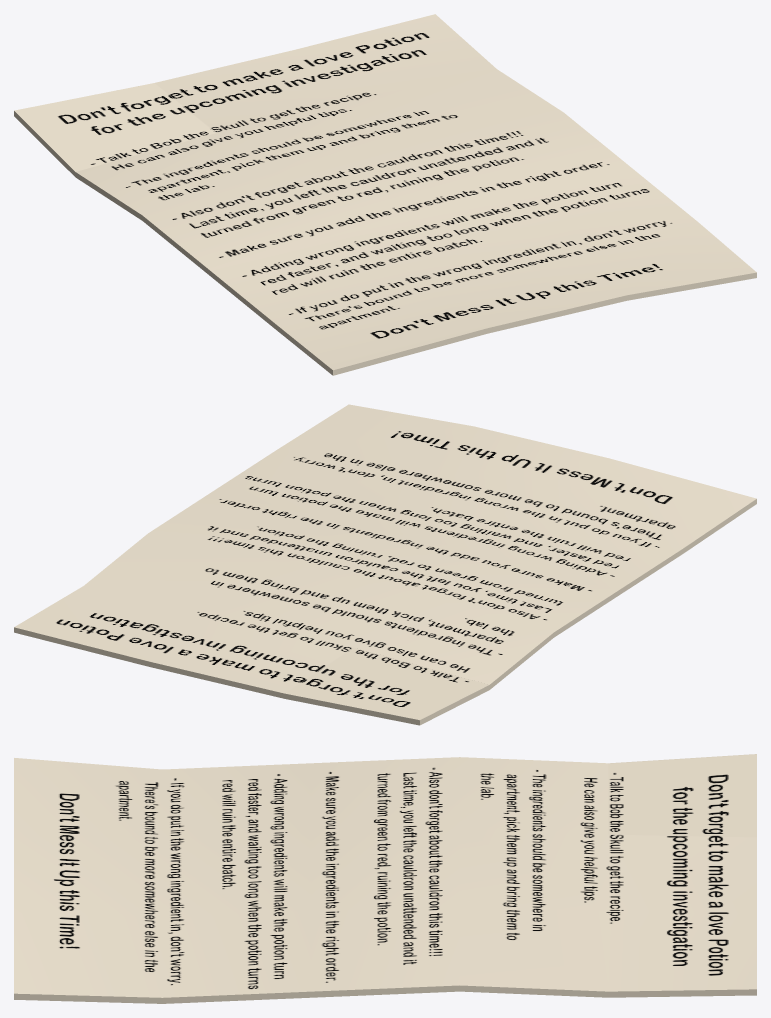
Rendered from introPage.fbx.
3 views of the same model, one above another, from view 1: azimuth 30°, elevation 25°; view 2: azimuth 150°, elevation 25°; view 3: azimuth 270°, elevation 25° (orthographic). The views are drawn at different scales.
Parts seen in each view (by area): view 1: RomancePage; view 2: RomancePage; view 3: RomancePage.
Part boxes in pixels (<box>): RomancePage: <box>14,14,756,375</box>; RomancePage: <box>14,404,756,725</box>; RomancePage: <box>14,754,756,1003</box>.
Size of the model in its own units: 0.8294 by 0.0401 by 1.1.
Materials: 1 (1 with a texture image).
